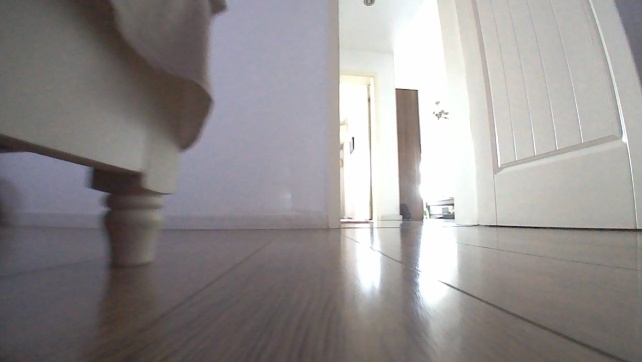door_anno: (435, 0, 641, 232)
